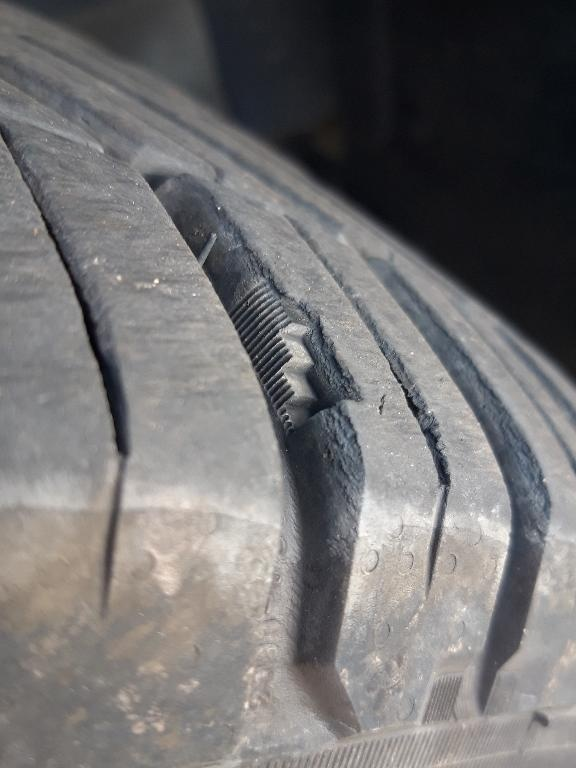temoin:80: (222, 271, 373, 444)
